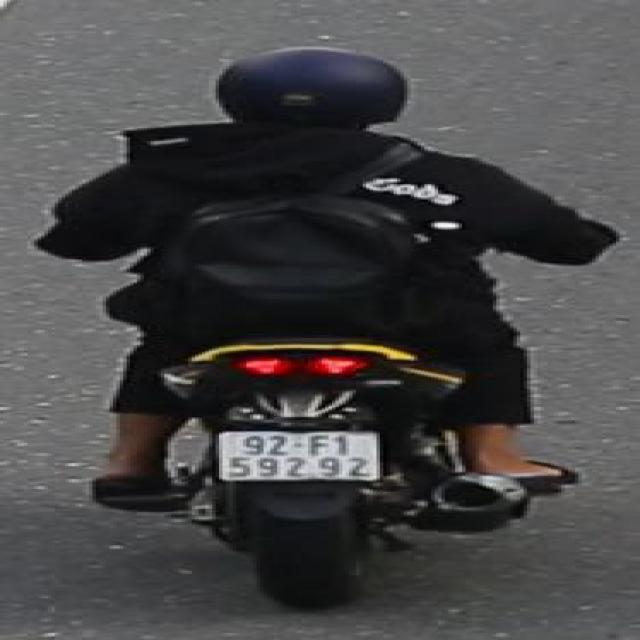LP: (211, 428, 385, 488)
helmet: (204, 43, 419, 137)
